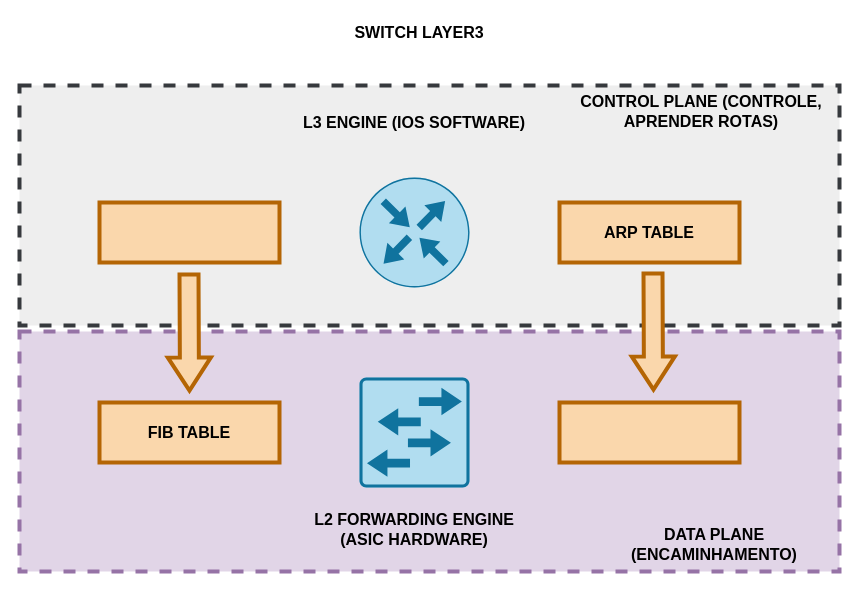
This 858x590 diagram has some shape labels left out. The centre of each missing label's shape, as x and y in pixels:
ADJACENCY TABLE: pixel 649 432
ROUTING TABLE: pixel 189 232
